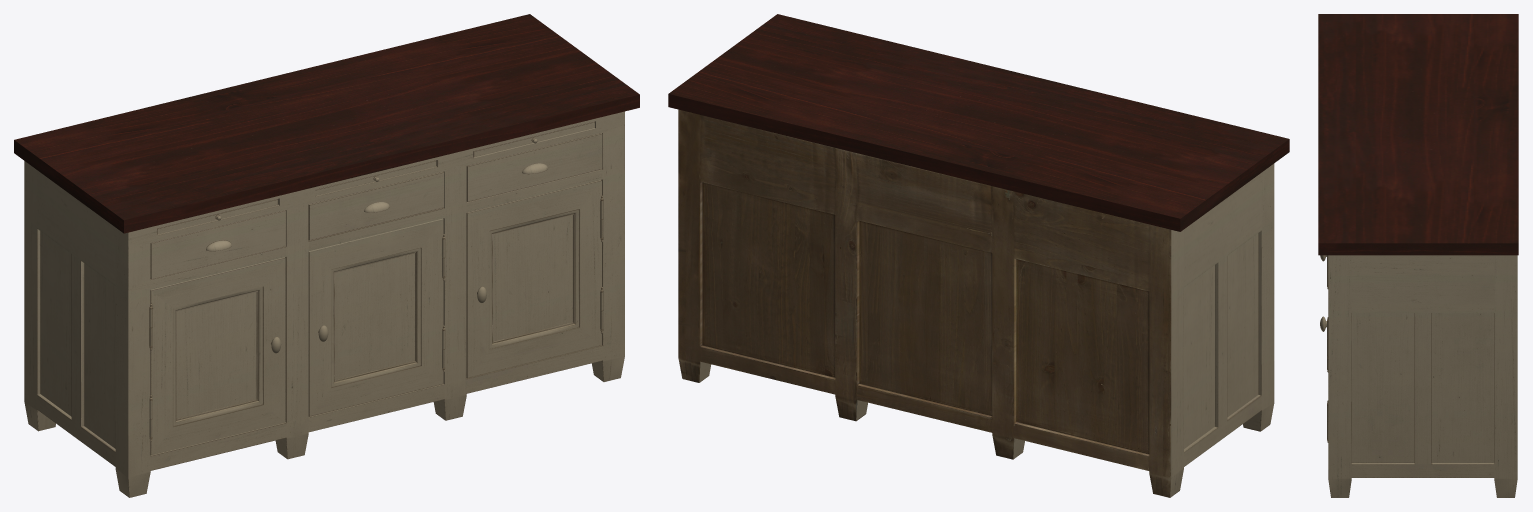
The model's file is example62.gltf.
3 renders of one model, left to right at view 1: azimuth 30°, elevation 25°; view 2: azimuth 150°, elevation 25°; view 3: azimuth 270°, elevation 25°, orthographic. The views are drawn at different scales.
Bounding box in the file's own units: 162 × 86 × 60.
3 materials, 3 textured.
